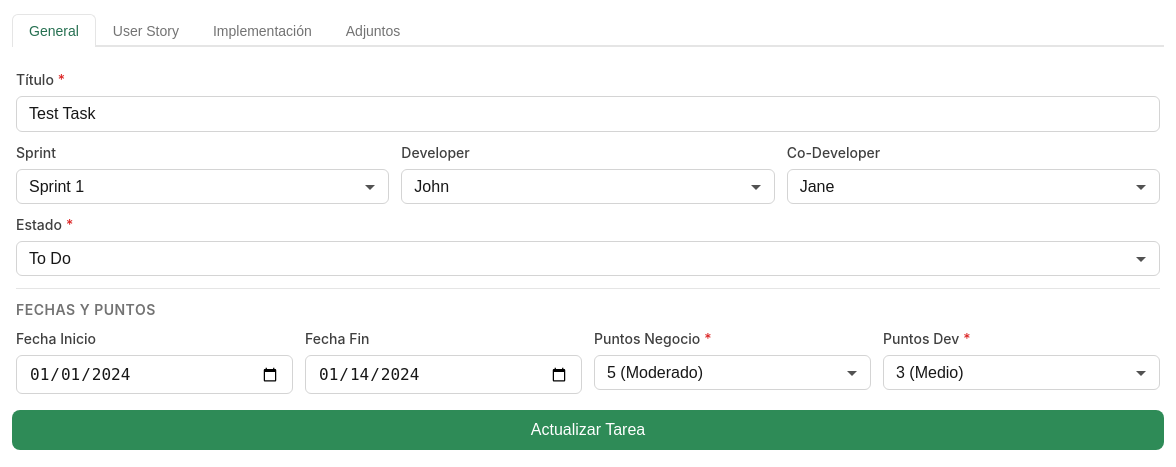
Test: TaskForm Component › should render acceptance criteria when on User Story tab
Click the button "User Story". click: (146, 30)
box: x1=96 y1=14 x2=196 y2=47
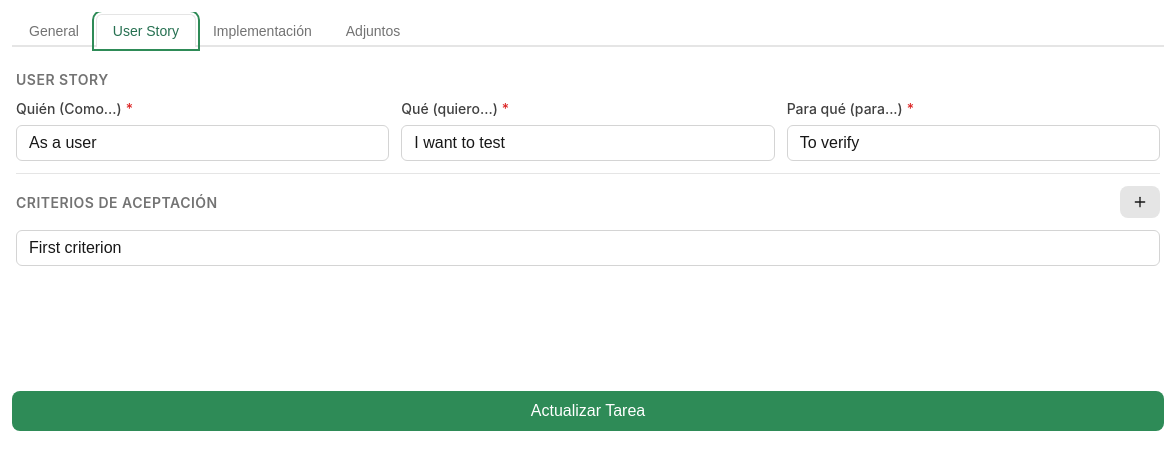
Expected: the field with placeholder "Criterio 1" below "Criterios de Aceptación" is shown, x1=16 y1=230 x2=1160 y2=266
